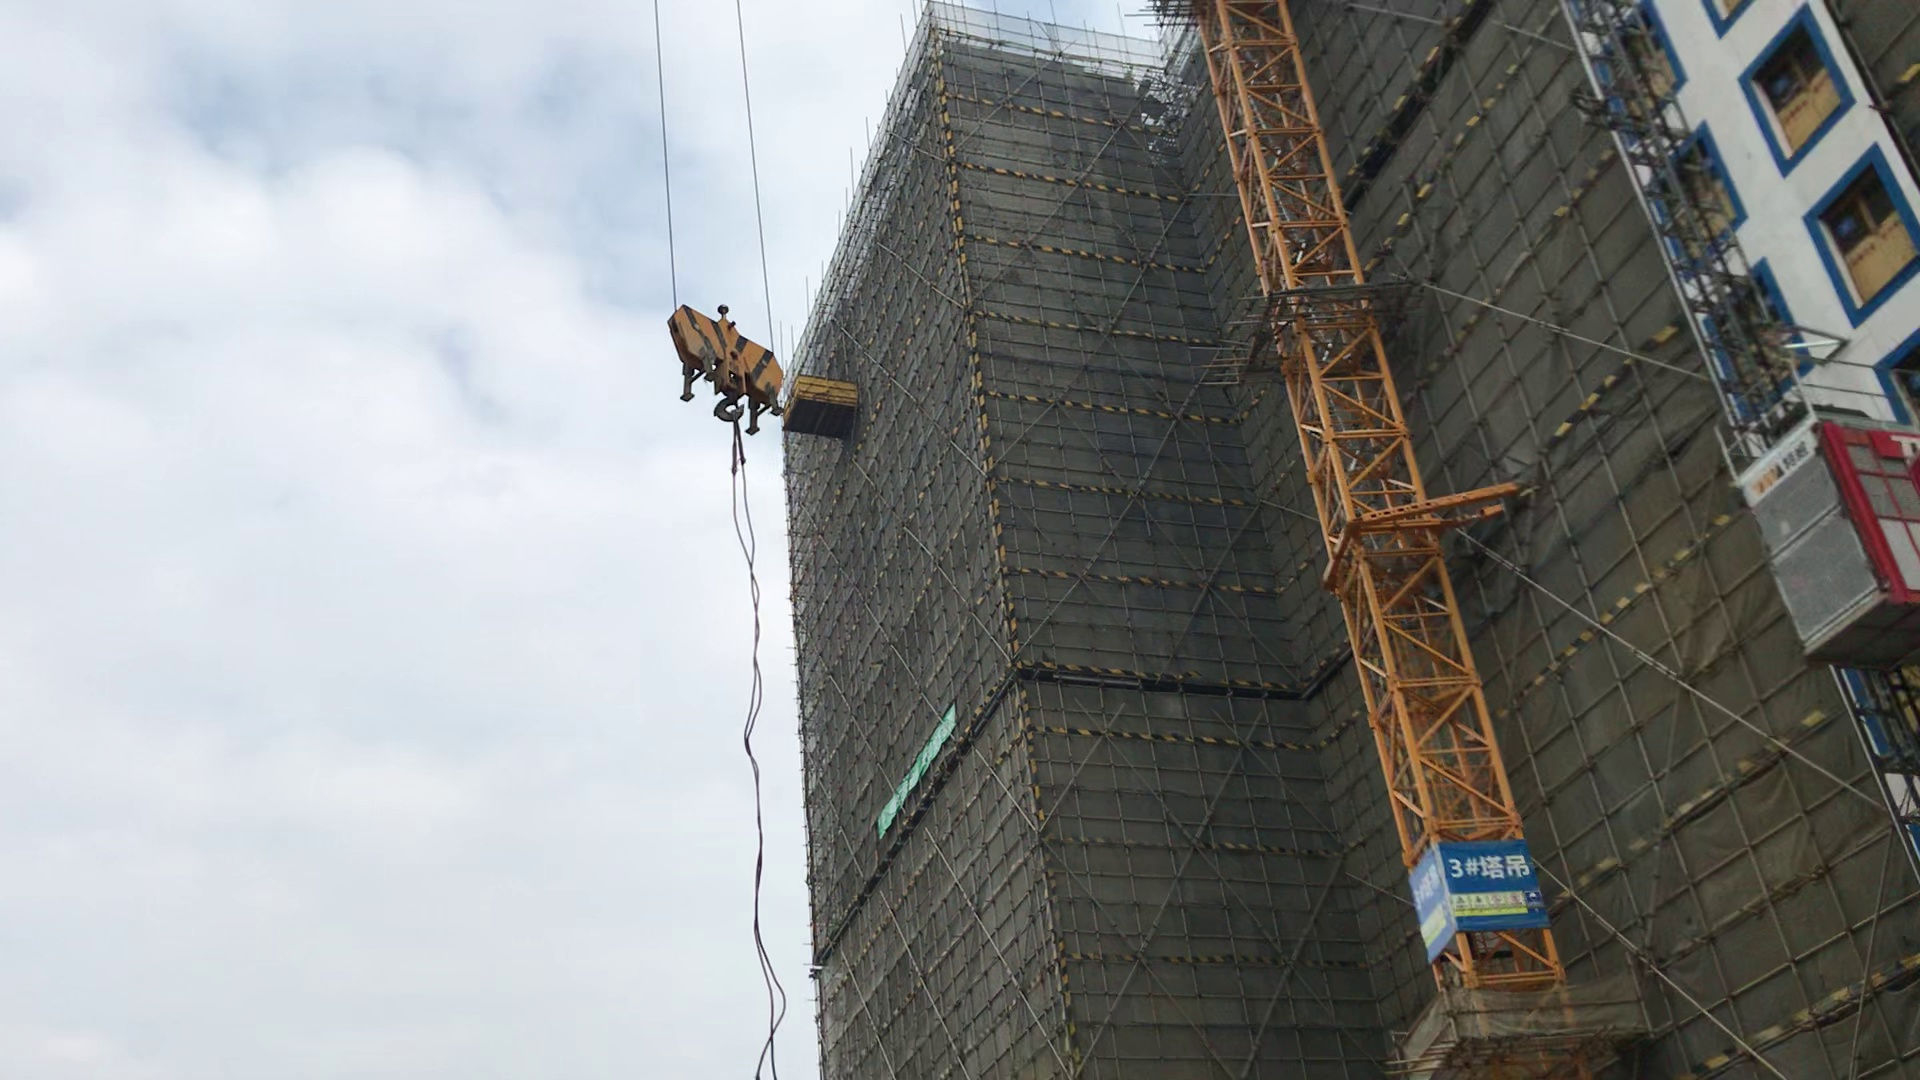hook: (655, 274, 793, 454)
slogan: (866, 708, 965, 827)
